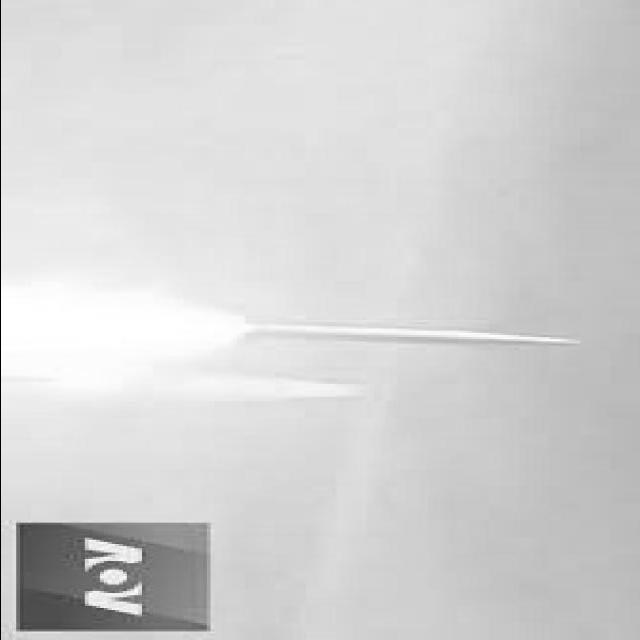missile: (246, 315, 591, 355)
